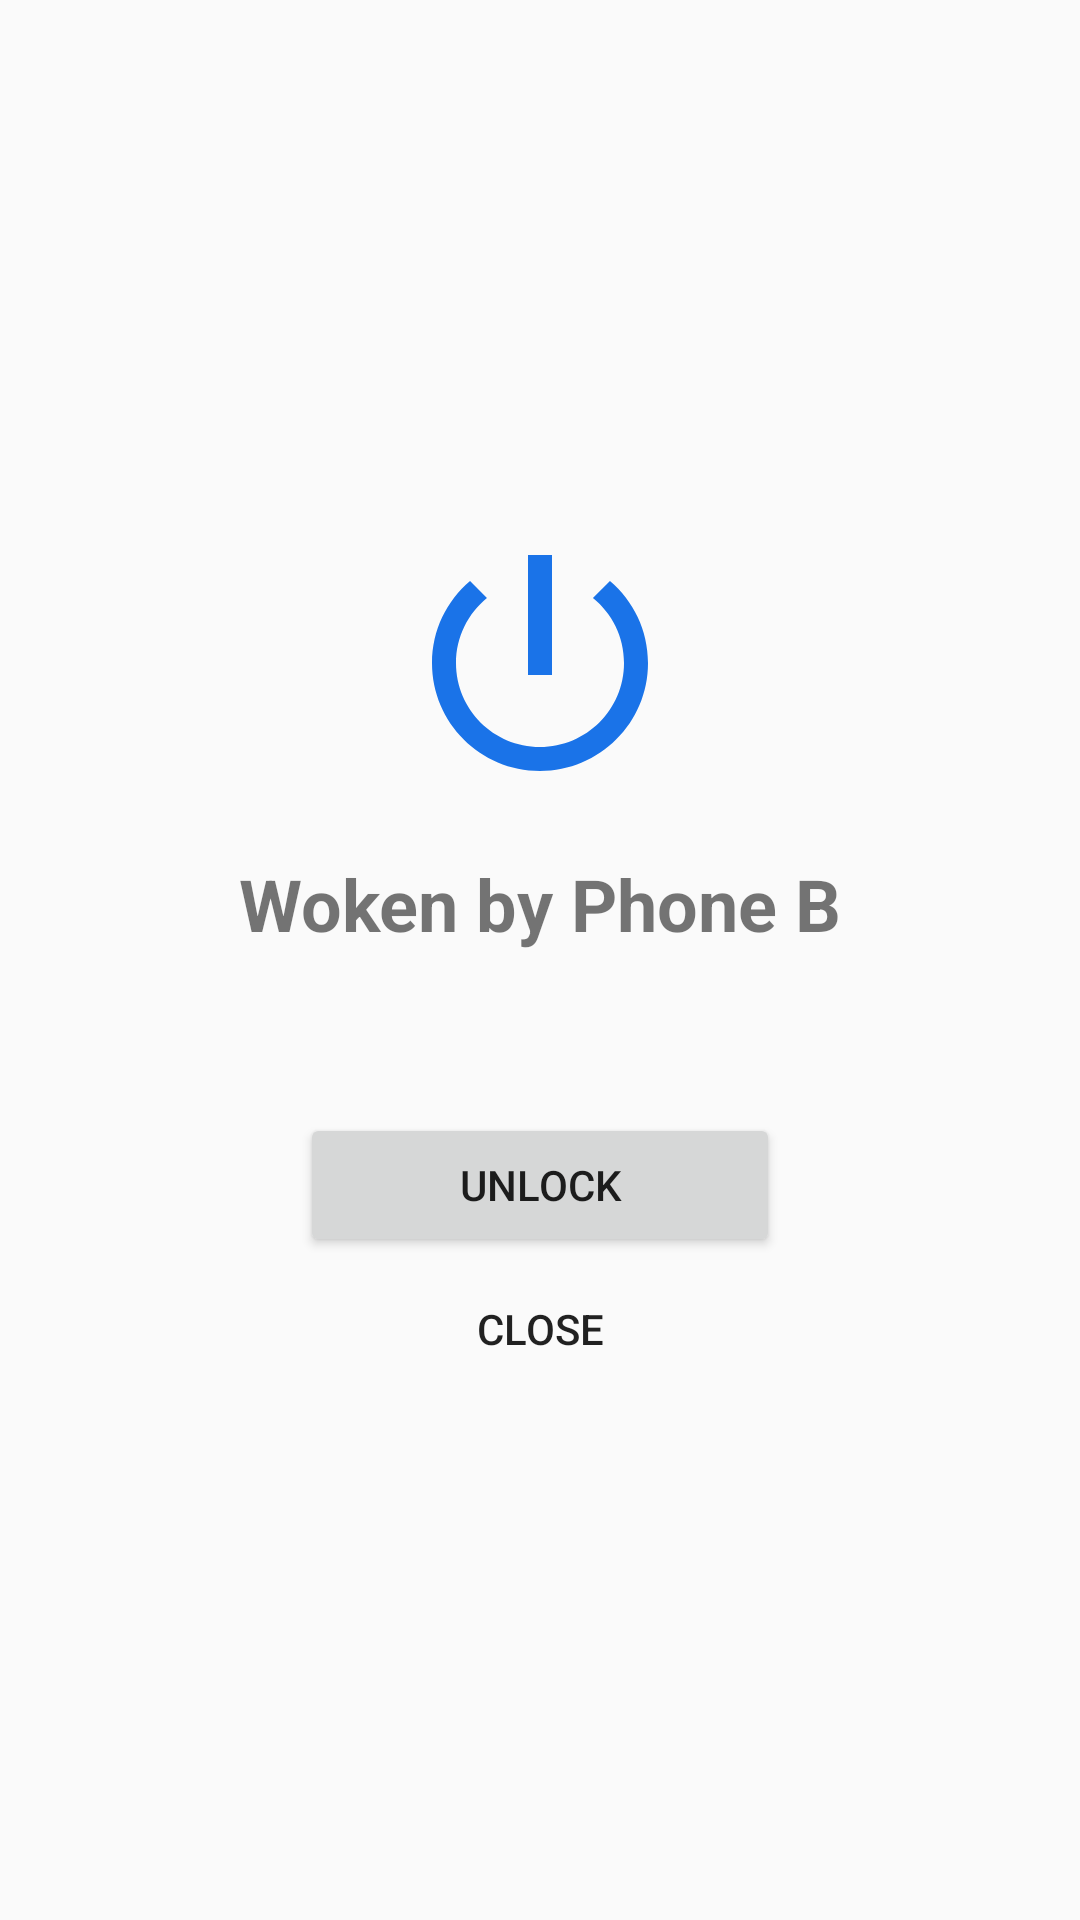

Icon click points for this 1080px×1920px phone screenshot, format [x,y]:
power: [540,663]
